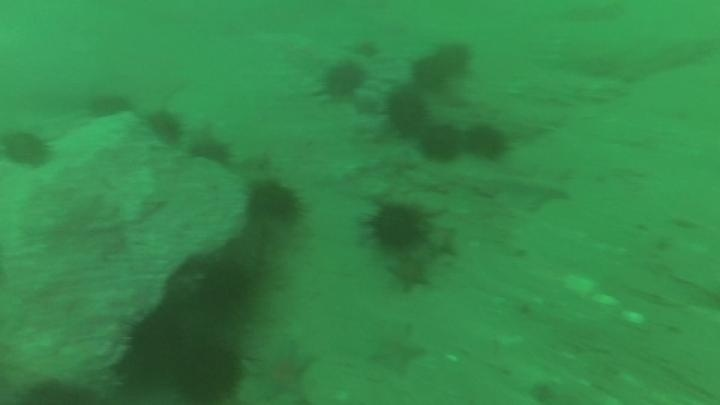echinus: (170, 335, 246, 403), (124, 308, 189, 377), (195, 257, 253, 318), (366, 200, 430, 254), (246, 178, 304, 226), (1, 127, 54, 171), (384, 88, 430, 138), (15, 374, 85, 405), (464, 122, 511, 164), (320, 59, 367, 101), (418, 123, 463, 166), (428, 40, 474, 79), (409, 53, 451, 93), (187, 134, 234, 169), (144, 107, 185, 146), (85, 89, 133, 122), (351, 37, 382, 60)
starfish: (246, 338, 320, 405), (366, 321, 427, 377), (384, 253, 434, 296)
